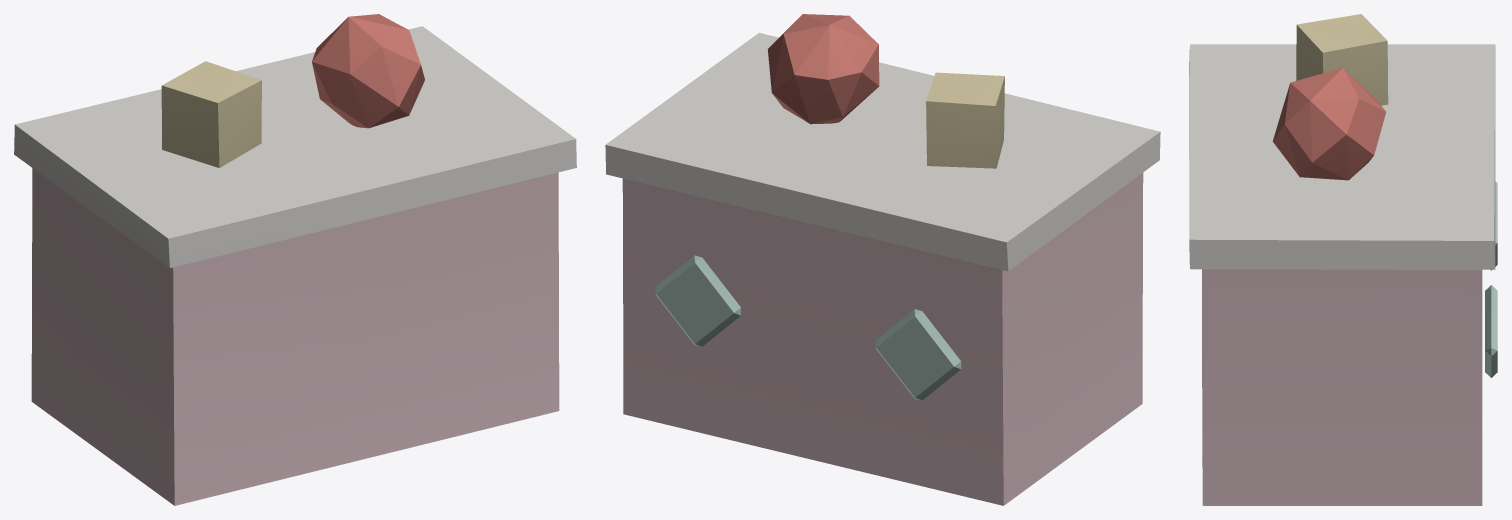
Rendered from furn_toy_box__pink_low.glb.
The picture shows the model from 3 angles, left to right: view 1: azimuth 30°, elevation 25°; view 2: azimuth 150°, elevation 25°; view 3: azimuth 270°, elevation 25°; orthographic projection.
Bounding box in the file's own units: 0.7323 × 0.6457 × 0.4858.
